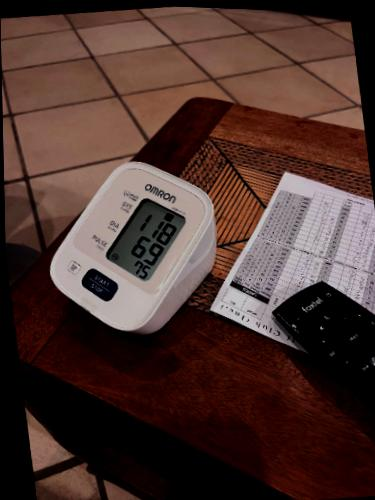bpm: (103, 191, 190, 284)
